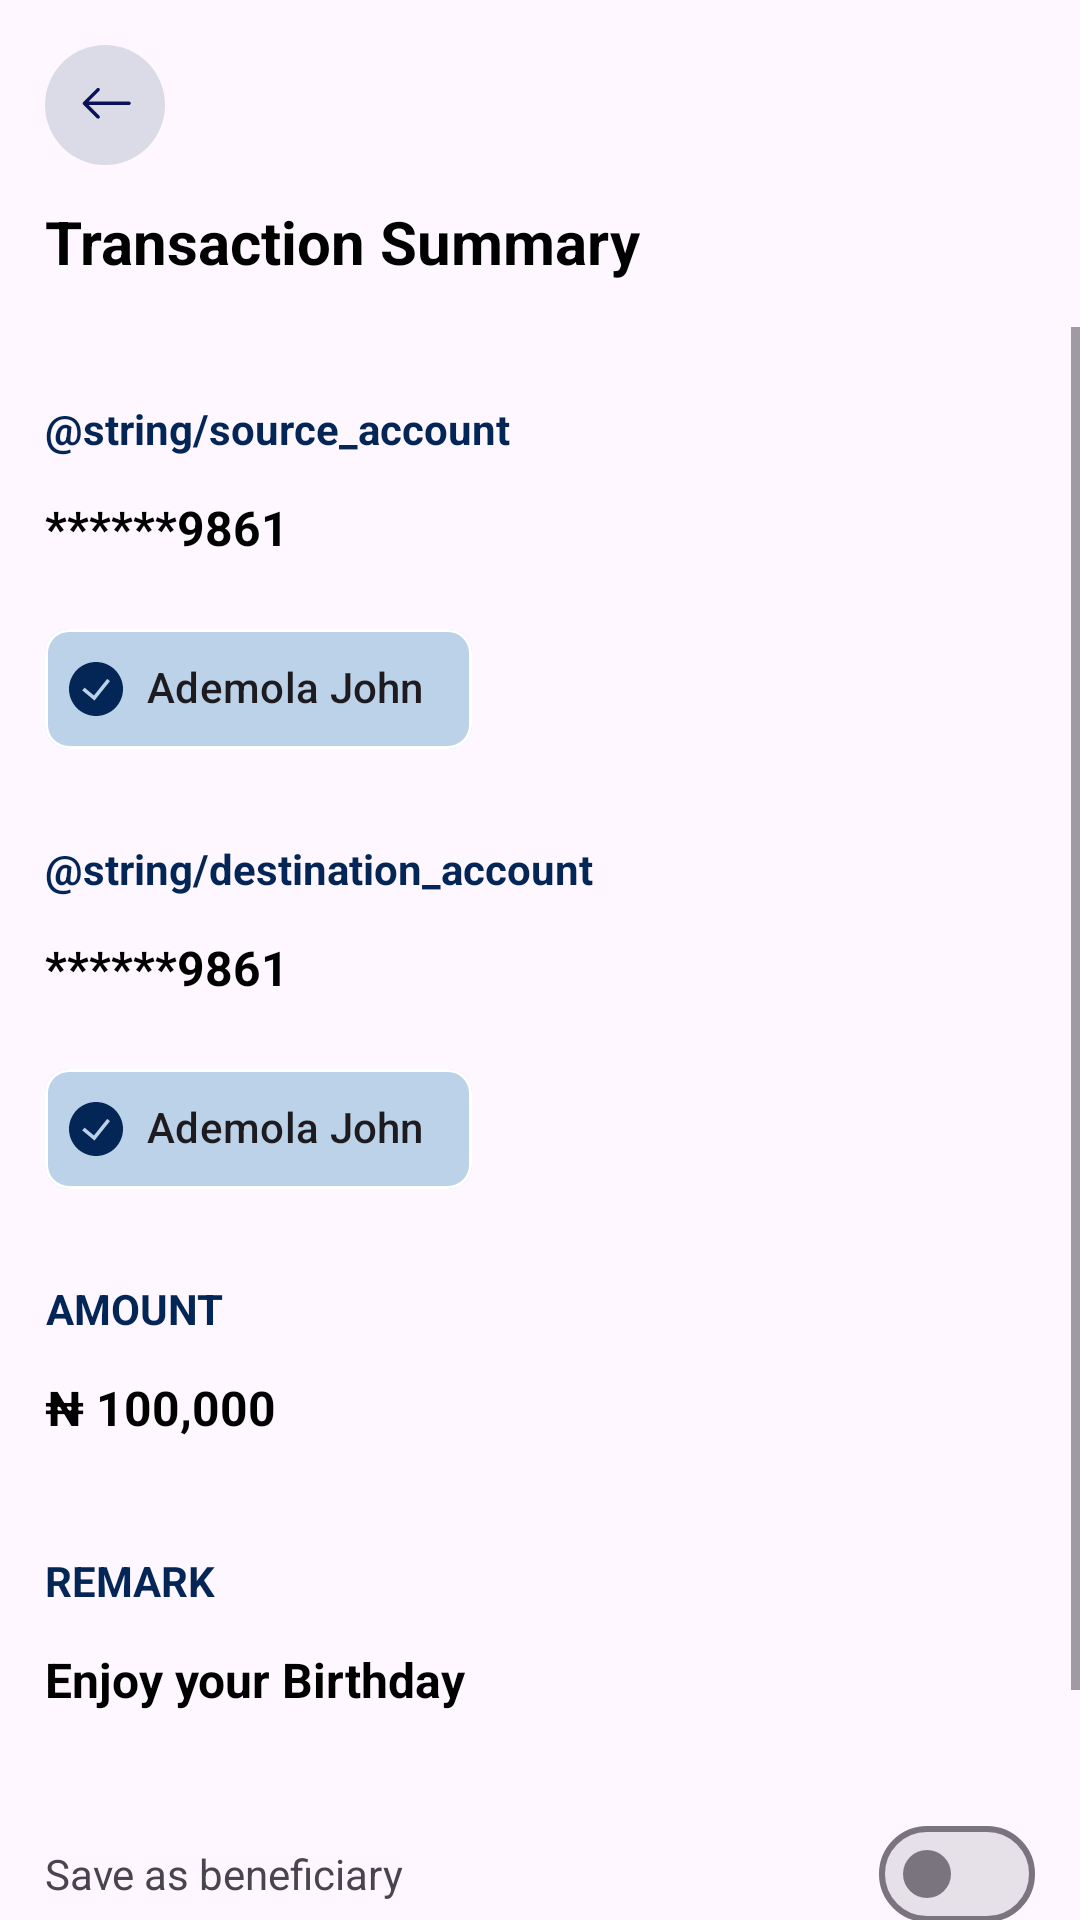

Where to tap for icons on this 1080 x 1920 app screen, as (x,y):
Arrow Back: (105,105)
